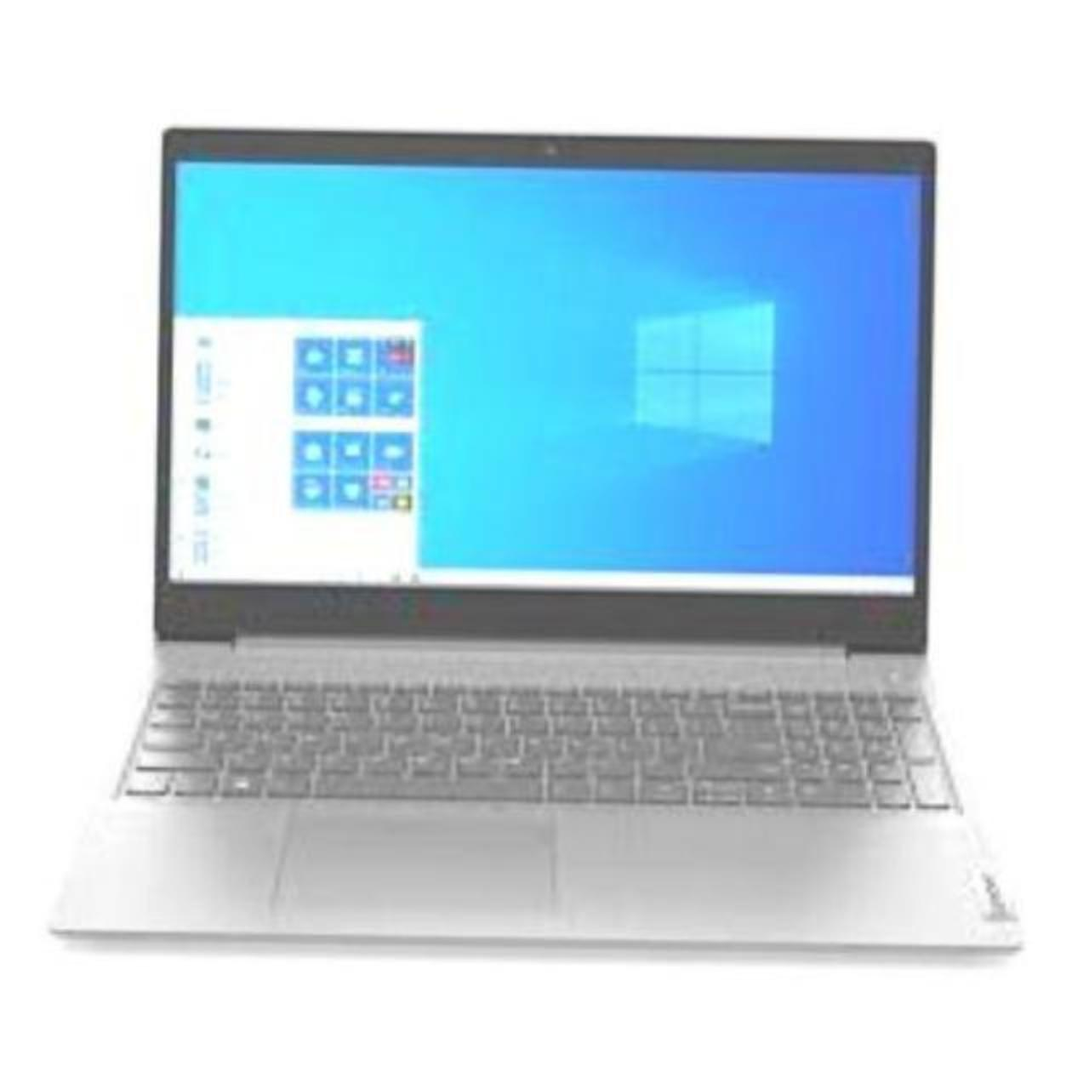laptop: (20, 83, 1069, 1012)
